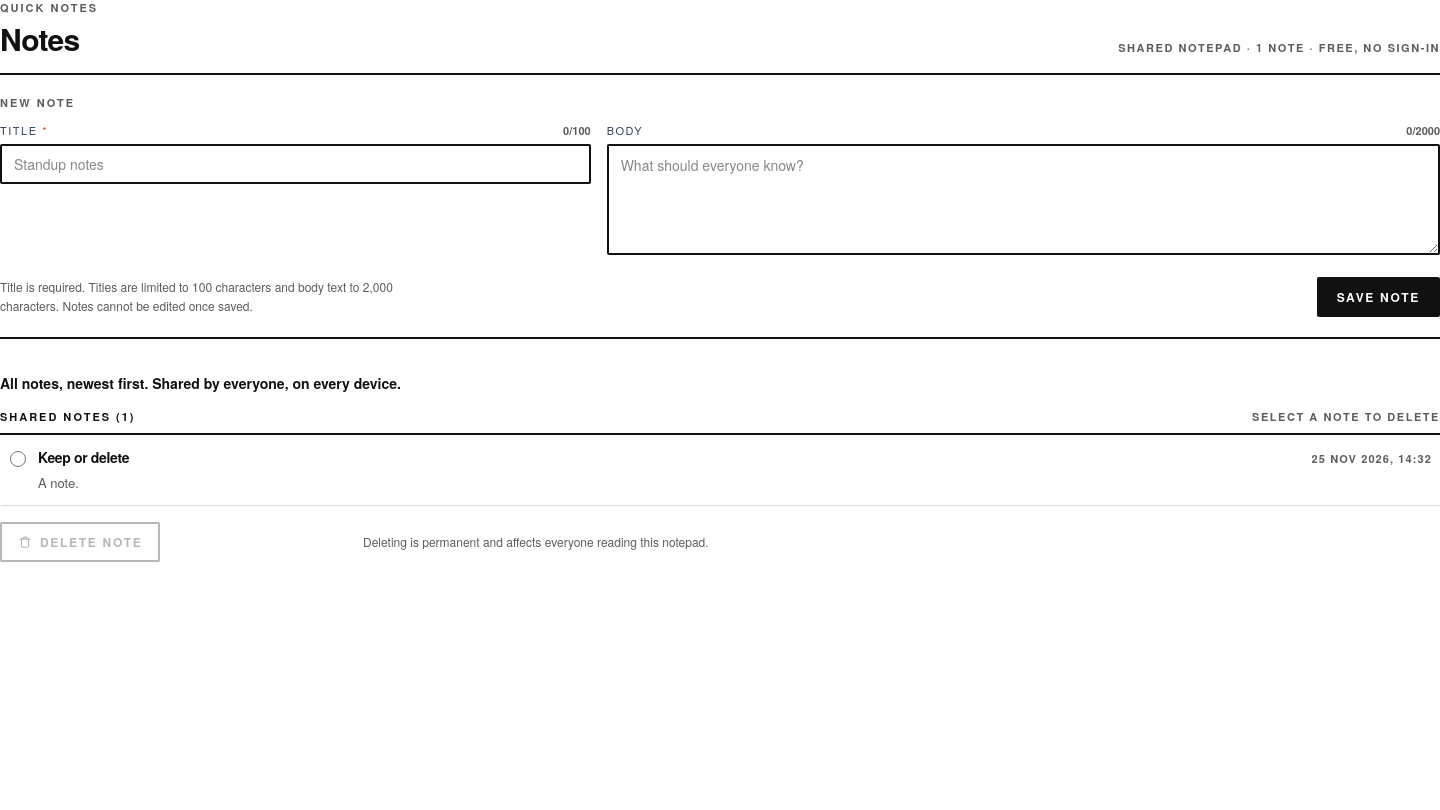
Test case: Notes screen › [AC-009] shows the confirmation prompt before anything is removed
Expected: the list with test id "shared-notes-3-list" shows "Keep or delete", [38, 447, 129, 467]
Step 1. Click the radio button labelled "Keep or delete" → (18, 459), box [10, 451, 26, 467]
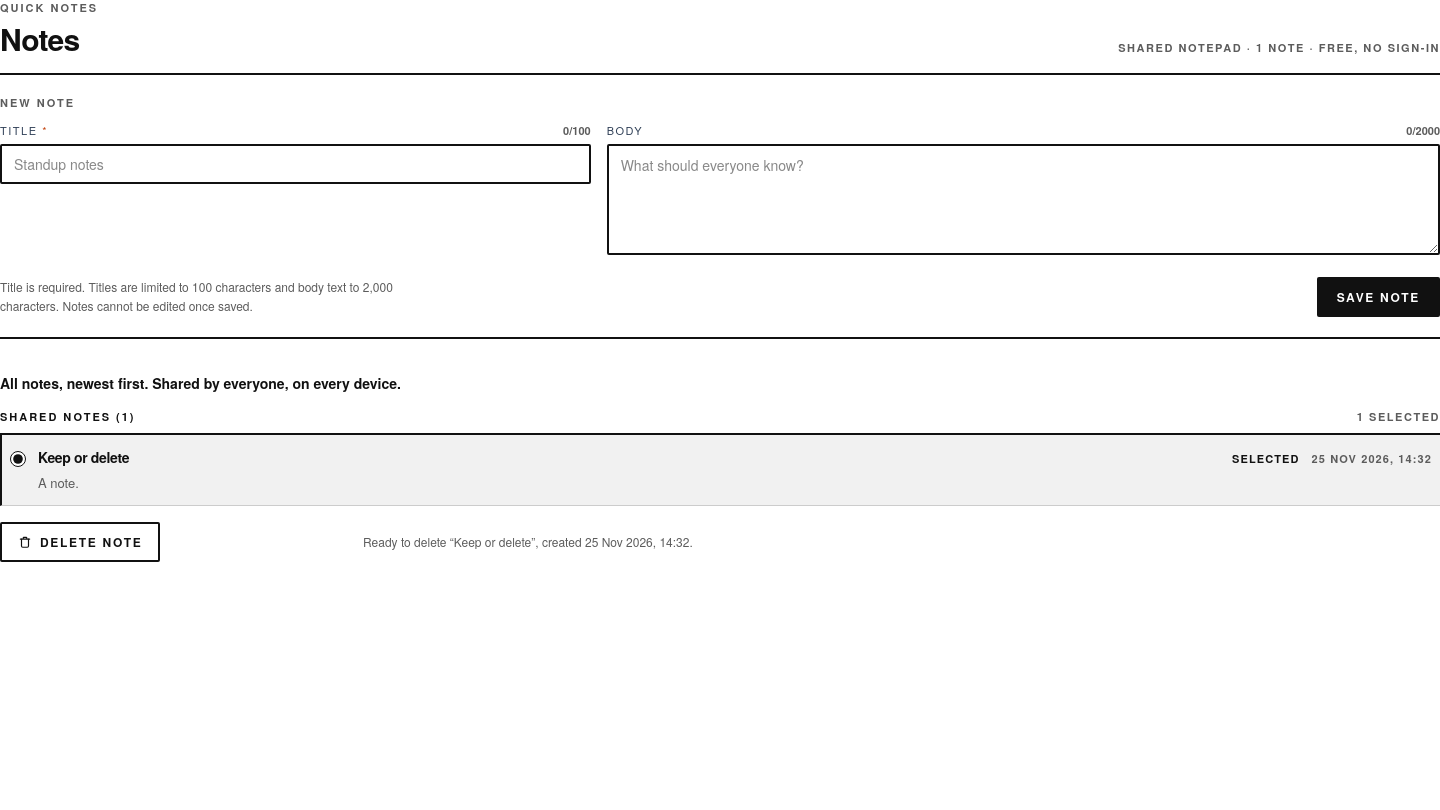
Step 2. Click the button with test id "delete-note-btn" → (80, 542), box [0, 522, 160, 562]
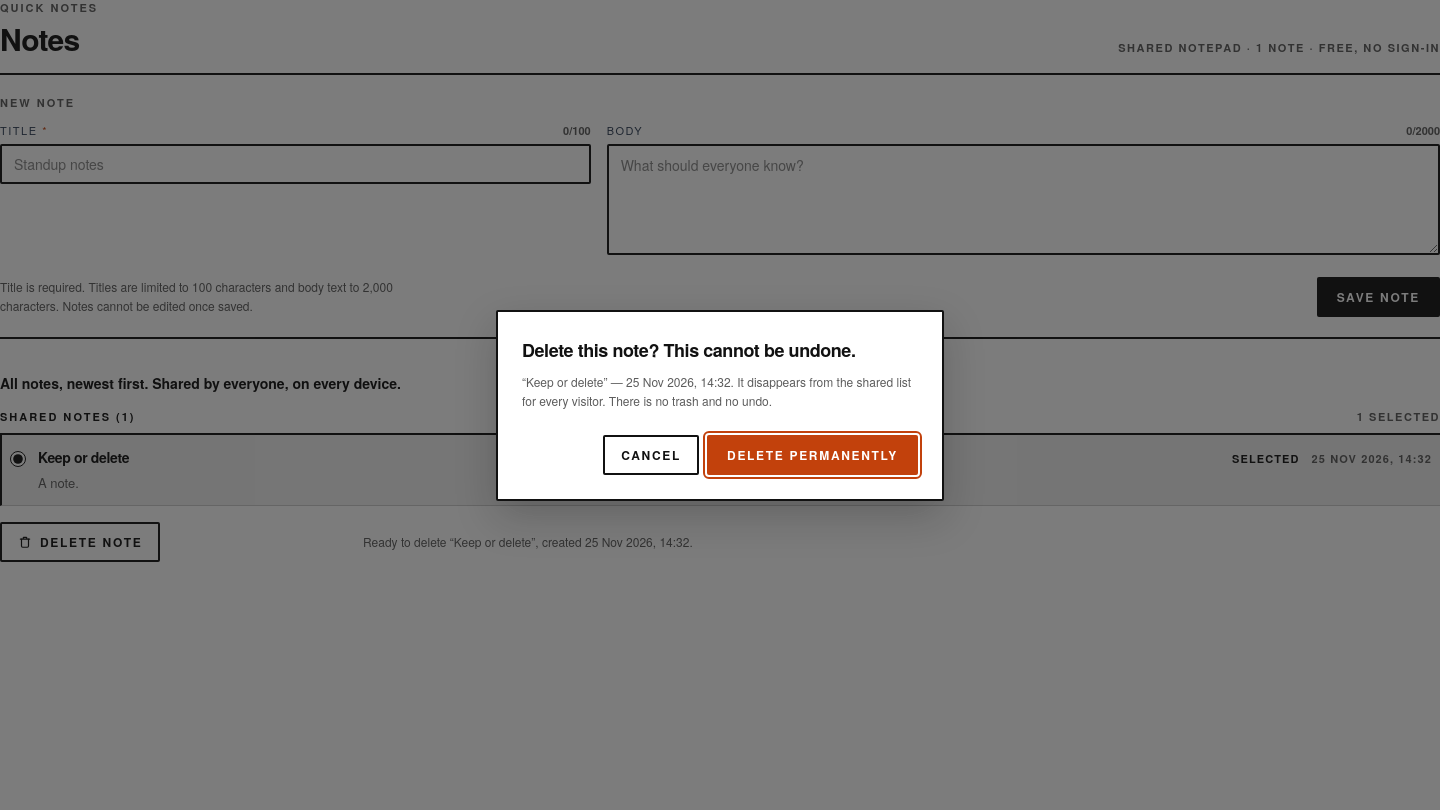
Expected: the list with test id "shared-notes-3-list" shows "Keep or delete", [38, 447, 129, 467]
Expected: the element with test id "delete-this-note-this-cannot-be-un-modal" shows "Delete this note? This cannot be undone.", [522, 336, 855, 362]
